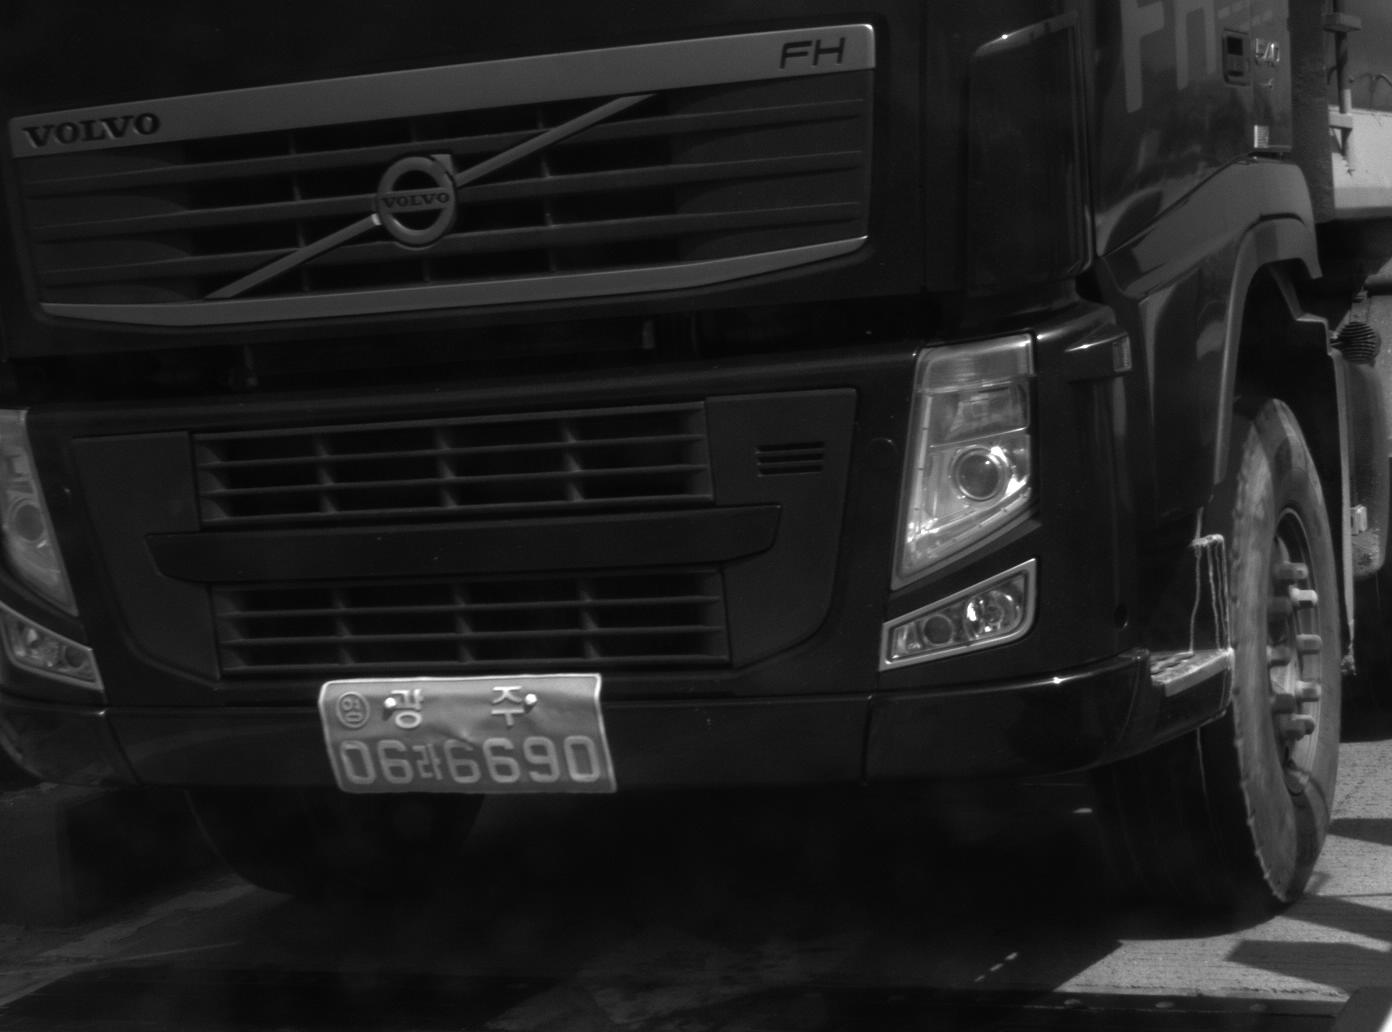car: (1, 1, 1390, 924)
plate: (314, 665, 626, 800)
